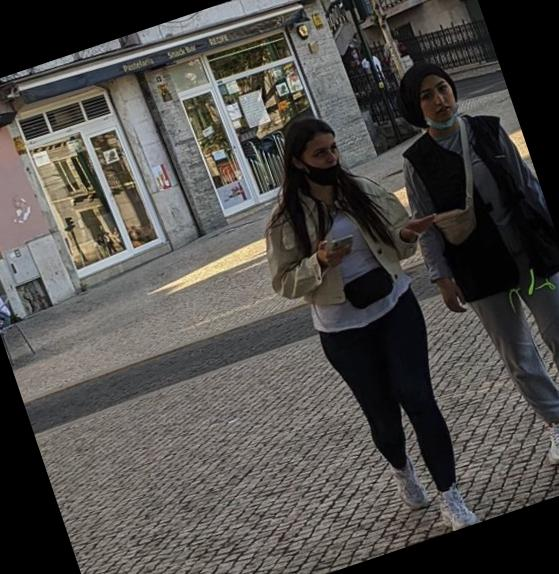mask_weared_incorrect: (412, 76, 467, 138), (298, 131, 351, 186)
